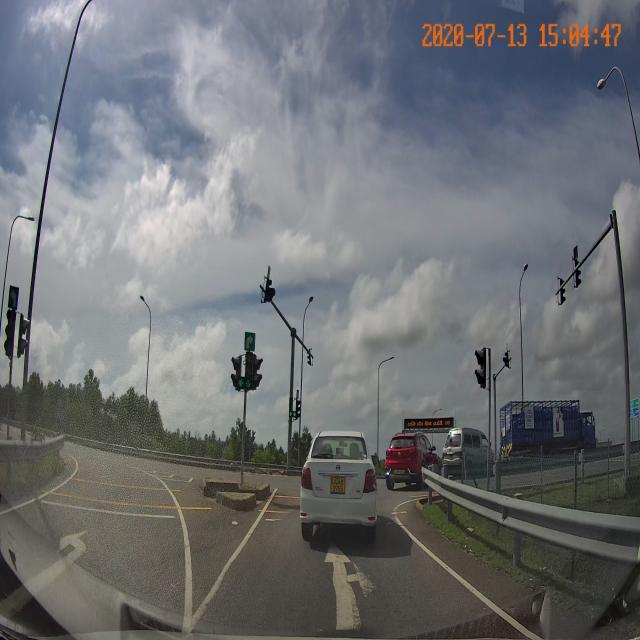forward_right: (187, 537, 529, 628), (192, 545, 520, 622), (192, 543, 515, 614), (192, 552, 523, 621), (200, 543, 491, 597)
